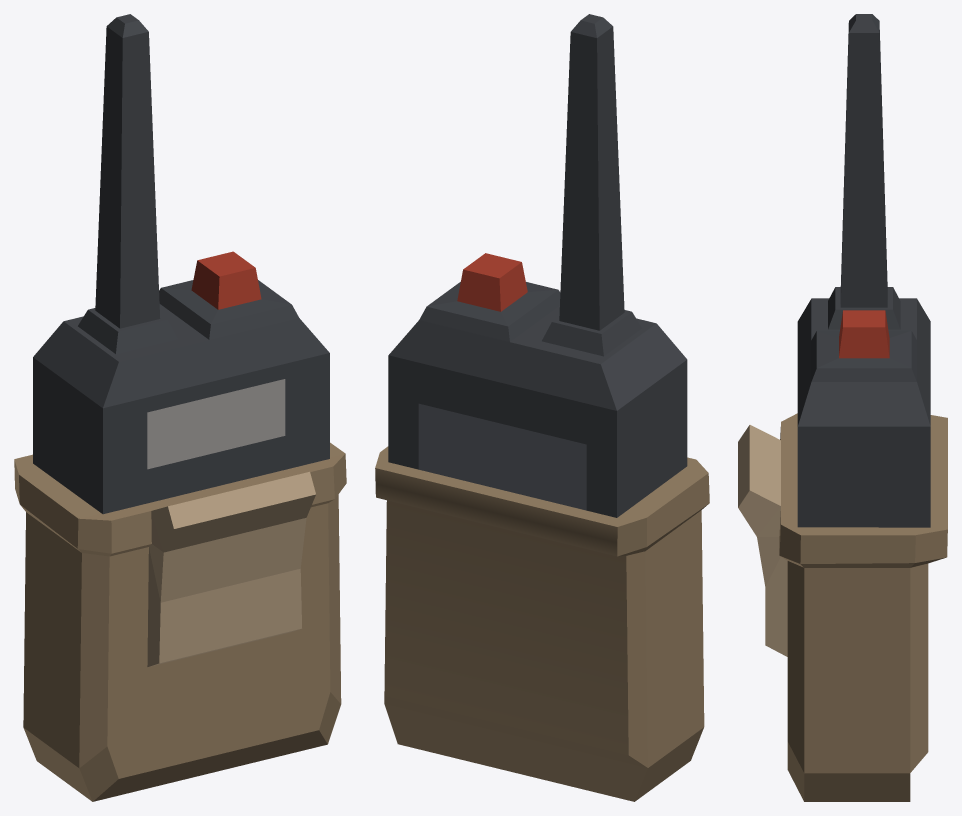
Rendered from SM_Item_Pouch_06.fbx.
The picture shows the model from 3 angles, left to right: view 1: azimuth 30°, elevation 25°; view 2: azimuth 150°, elevation 25°; view 3: azimuth 270°, elevation 25°; orthographic projection. The views are drawn at different scales.
Parts seen in each view (by area): view 1: SM_Item_Pouch_06; view 2: SM_Item_Pouch_06; view 3: SM_Item_Pouch_06.
Boxes of the visible parts, bbox=[...] form: SM_Item_Pouch_06: bbox=[14, 14, 346, 801]; SM_Item_Pouch_06: bbox=[375, 14, 709, 801]; SM_Item_Pouch_06: bbox=[738, 14, 947, 801].
Size of the model in its own units: 12.21 by 32.25 by 8.68.
